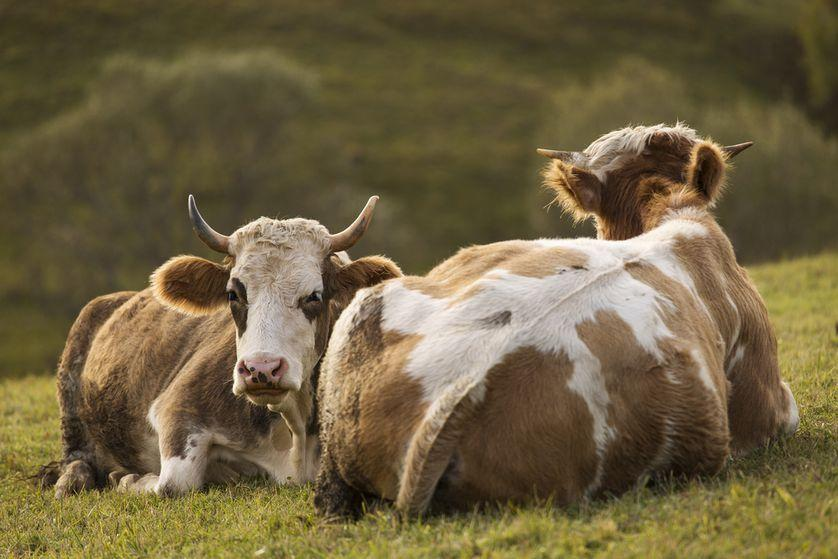cow: (41, 124, 797, 515)
